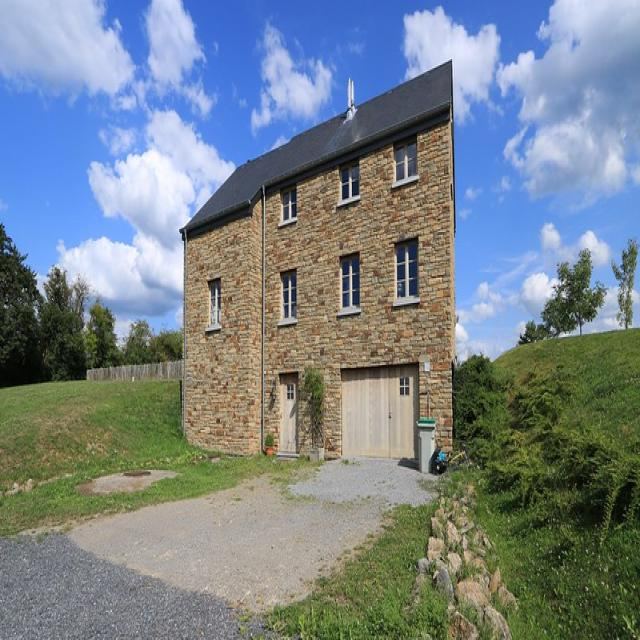building: (178, 51, 457, 478)
